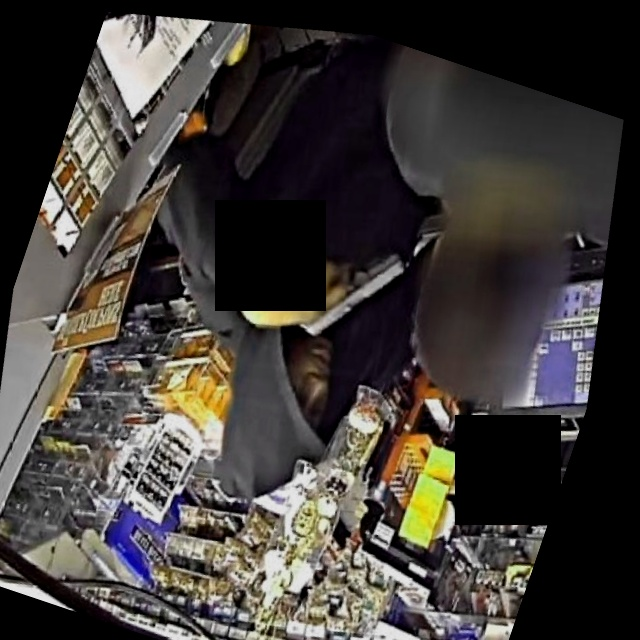gun: (255, 202, 435, 372)
